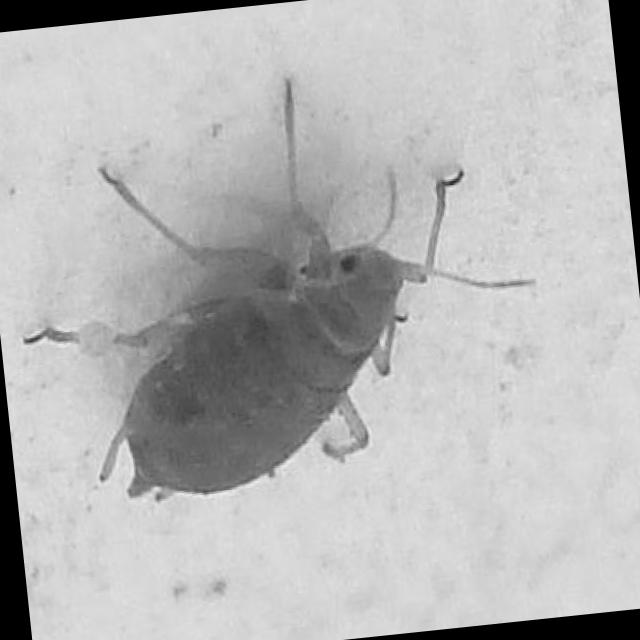Aphid: (32, 41, 548, 531)
